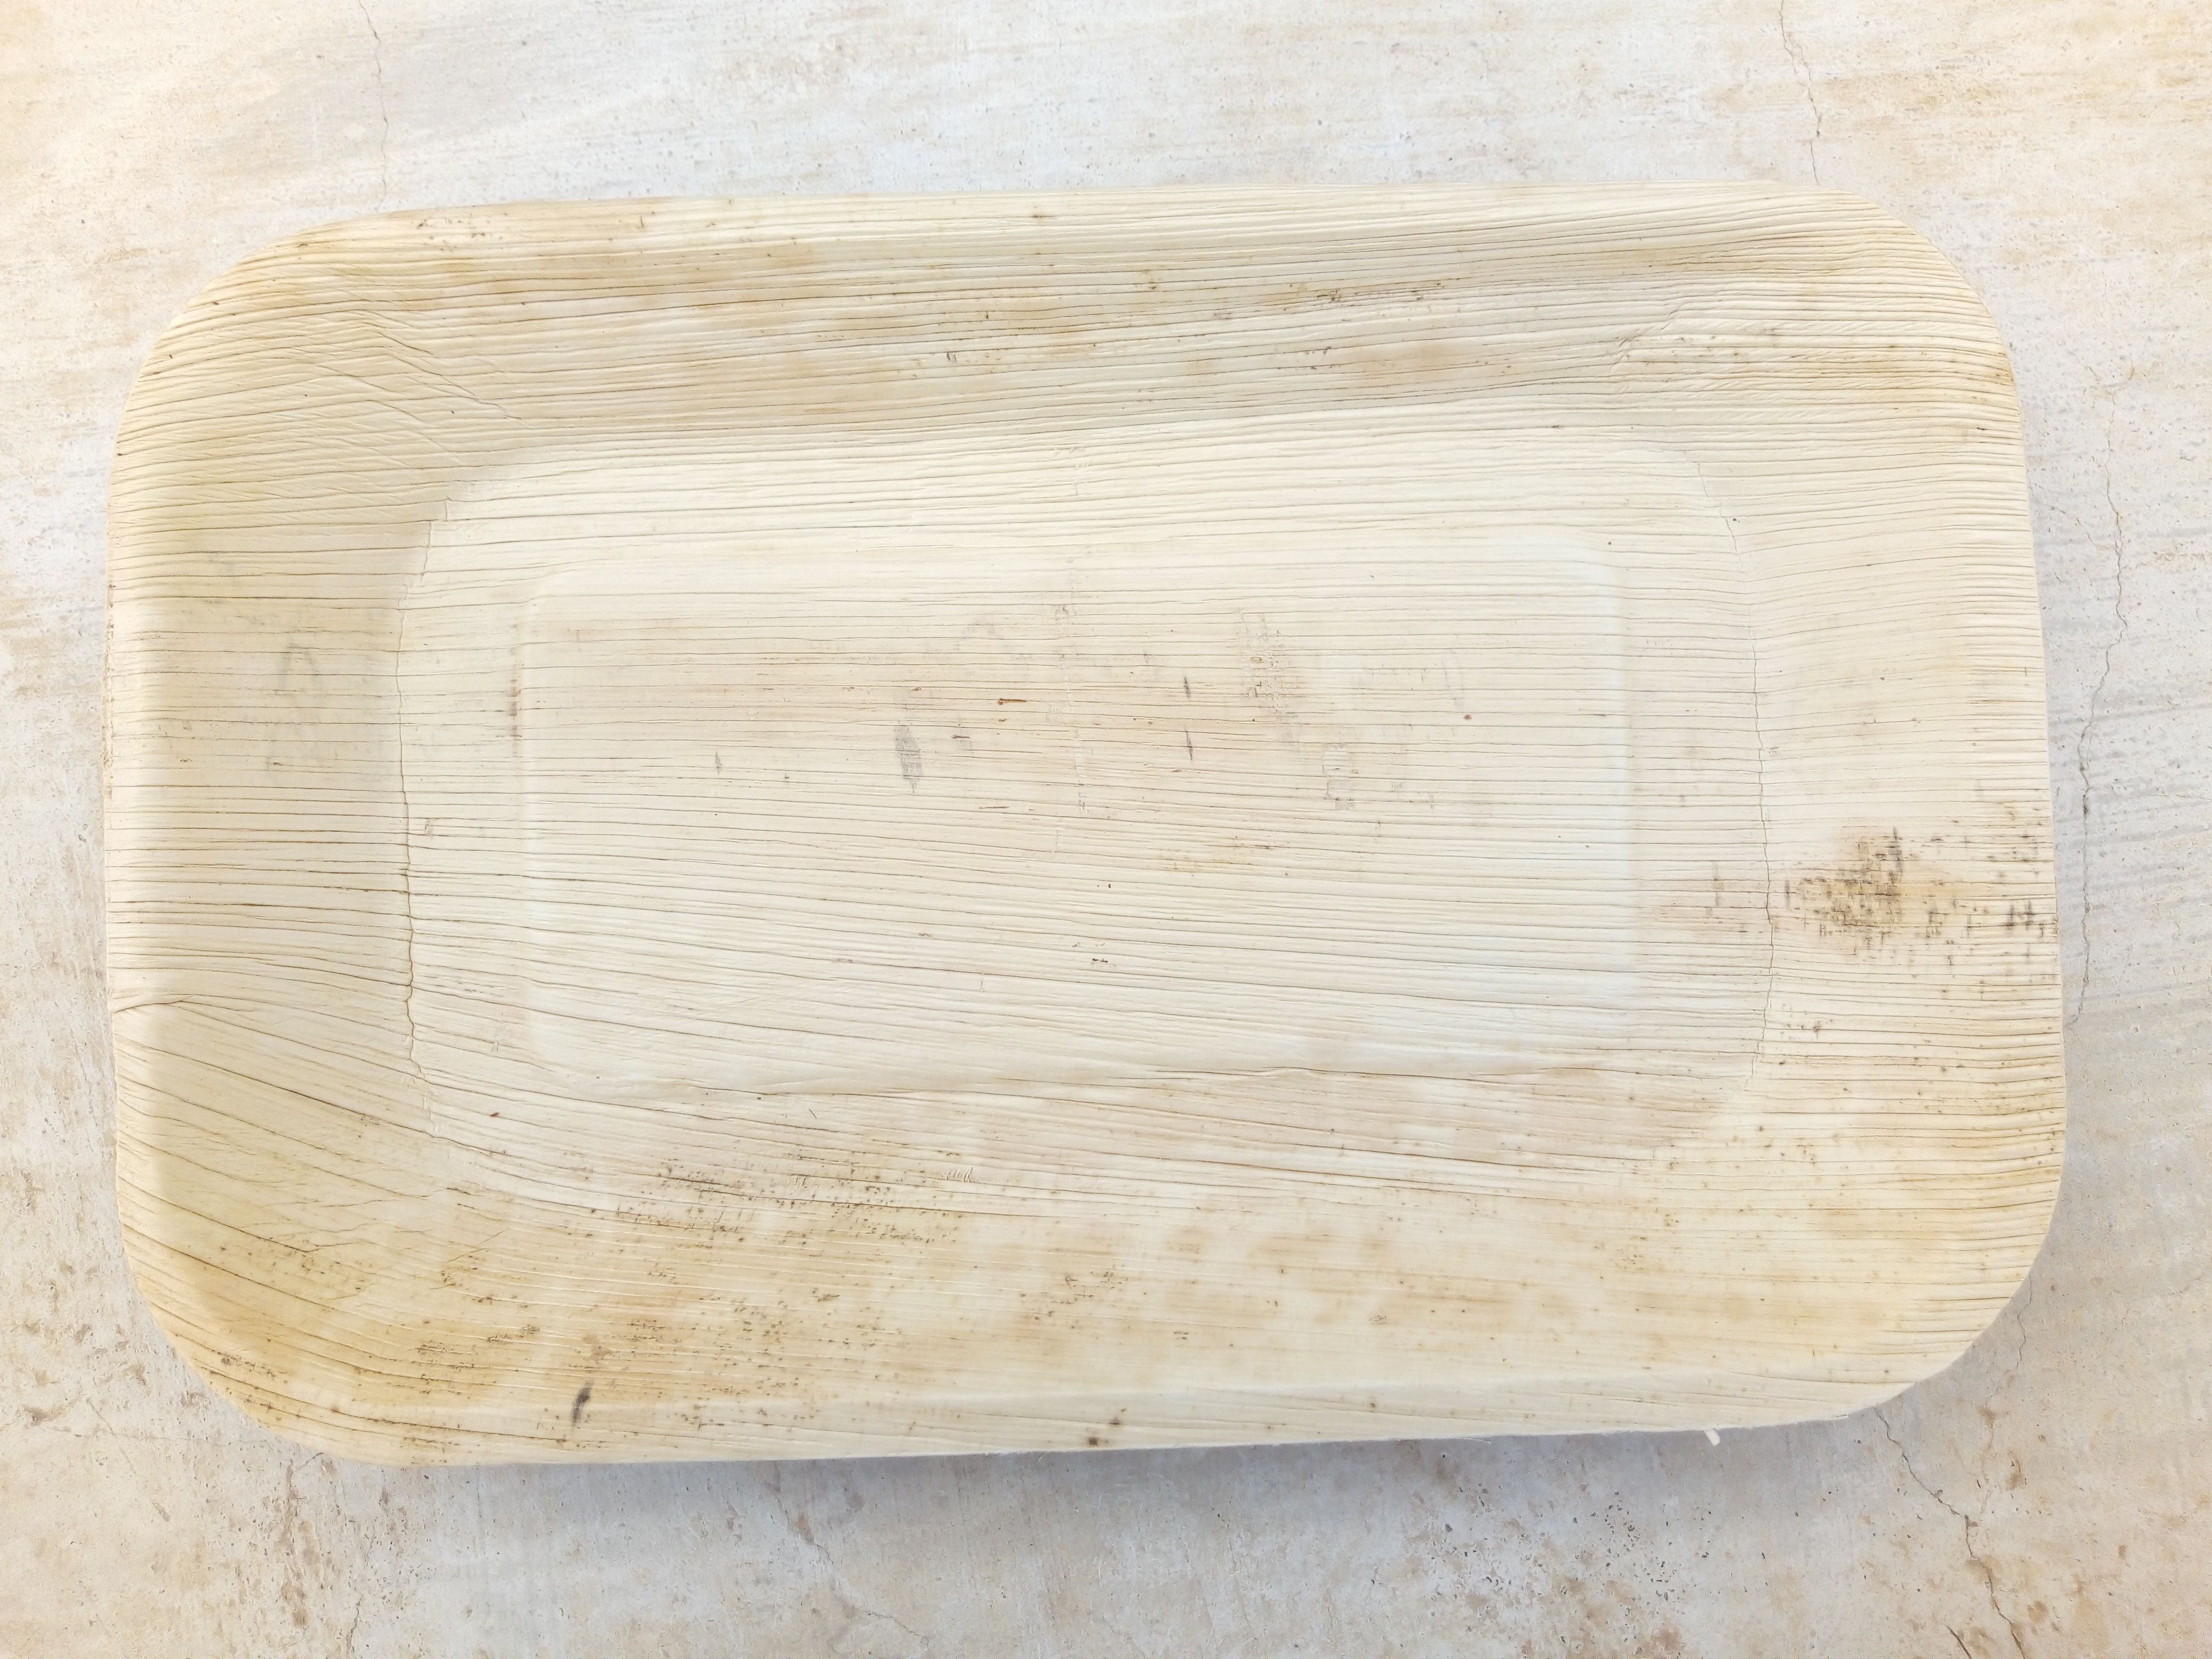areca plate: (101, 200, 2074, 1462)
